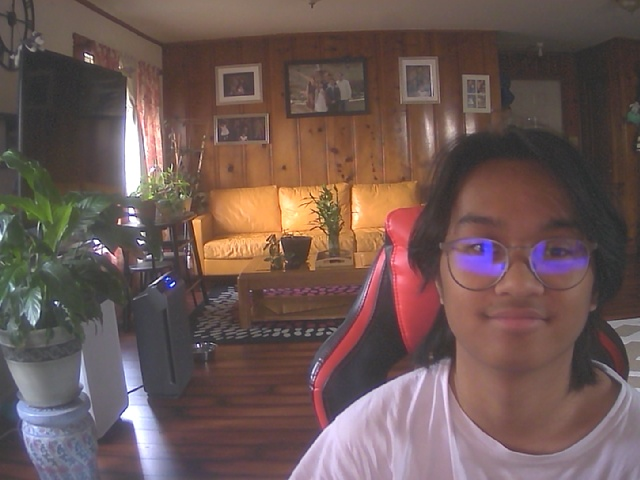happy: (428, 129, 611, 375)
